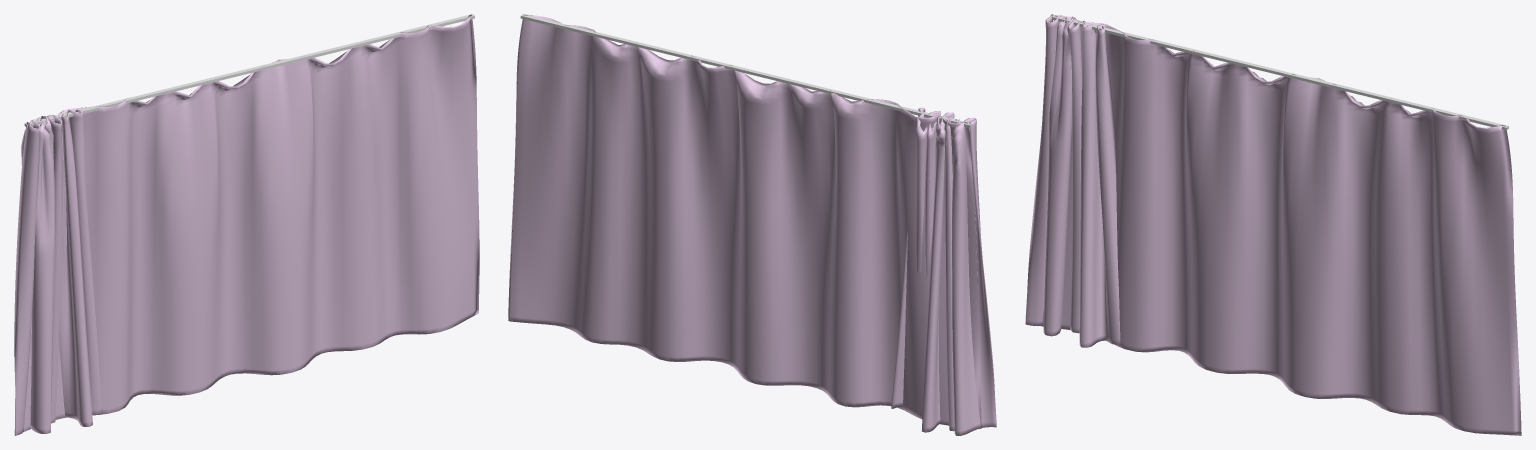
File: Curtain.fbx
The picture shows the model from 3 angles, left to right: view 1: azimuth 30°, elevation 25°; view 2: azimuth 150°, elevation 25°; view 3: azimuth 330°, elevation 25°; orthographic projection.
Parts seen in each view (by area): view 1: Set1_Open, Set1_Close, Rale; view 2: Set1_Open, Set1_Close, Rale; view 3: Set1_Open, Set1_Close, Rale.
Boxes of the visible parts, <box> form: Set1_Open: <box>23,14,479,431</box>; Set1_Close: <box>14,109,102,435</box>; Rale: <box>24,14,474,127</box>; Set1_Open: <box>508,14,981,428</box>; Set1_Close: <box>891,107,996,435</box>; Rale: <box>520,14,972,127</box>; Set1_Open: <box>1041,15,1521,435</box>; Set1_Close: <box>1025,14,1120,347</box>; Rale: <box>1052,15,1508,130</box>.
Bounding box in the file's own units: 9.65 × 5.98 × 1.15.
